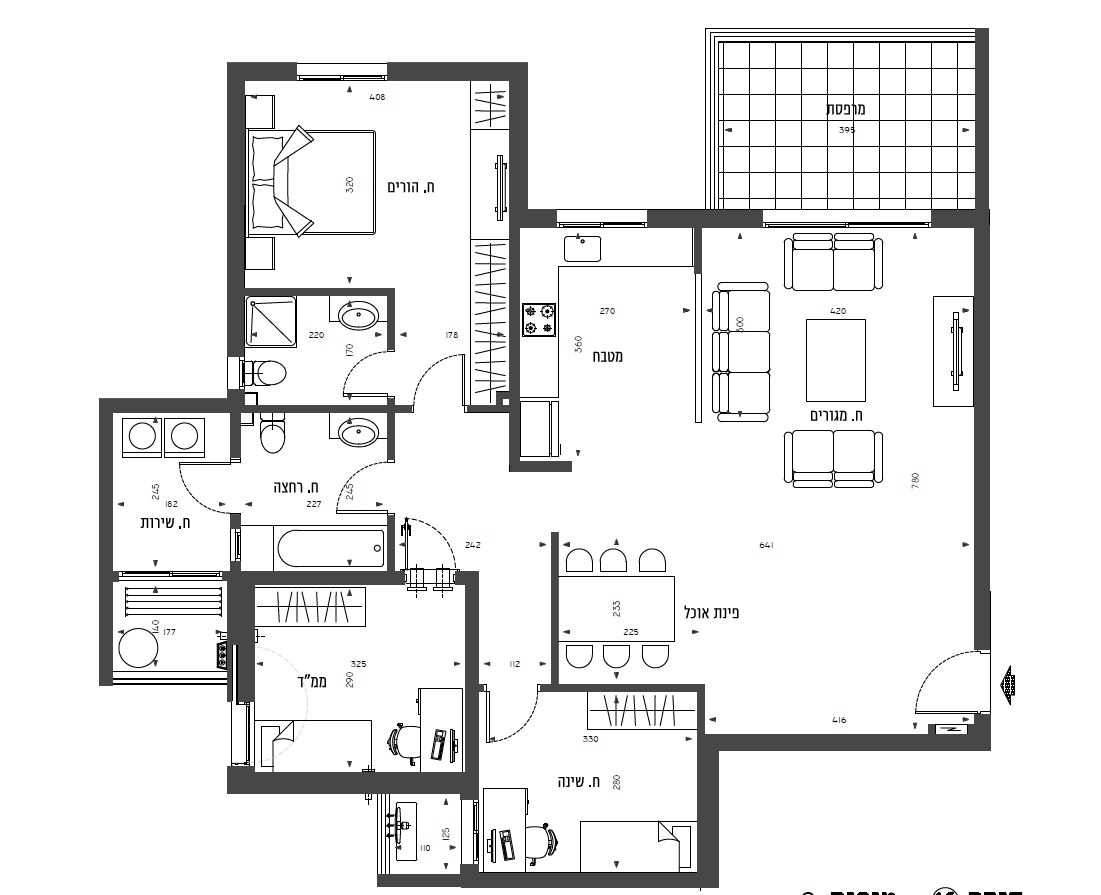window: (760, 208, 933, 227), (555, 208, 648, 230), (458, 797, 482, 866), (297, 62, 388, 80)
